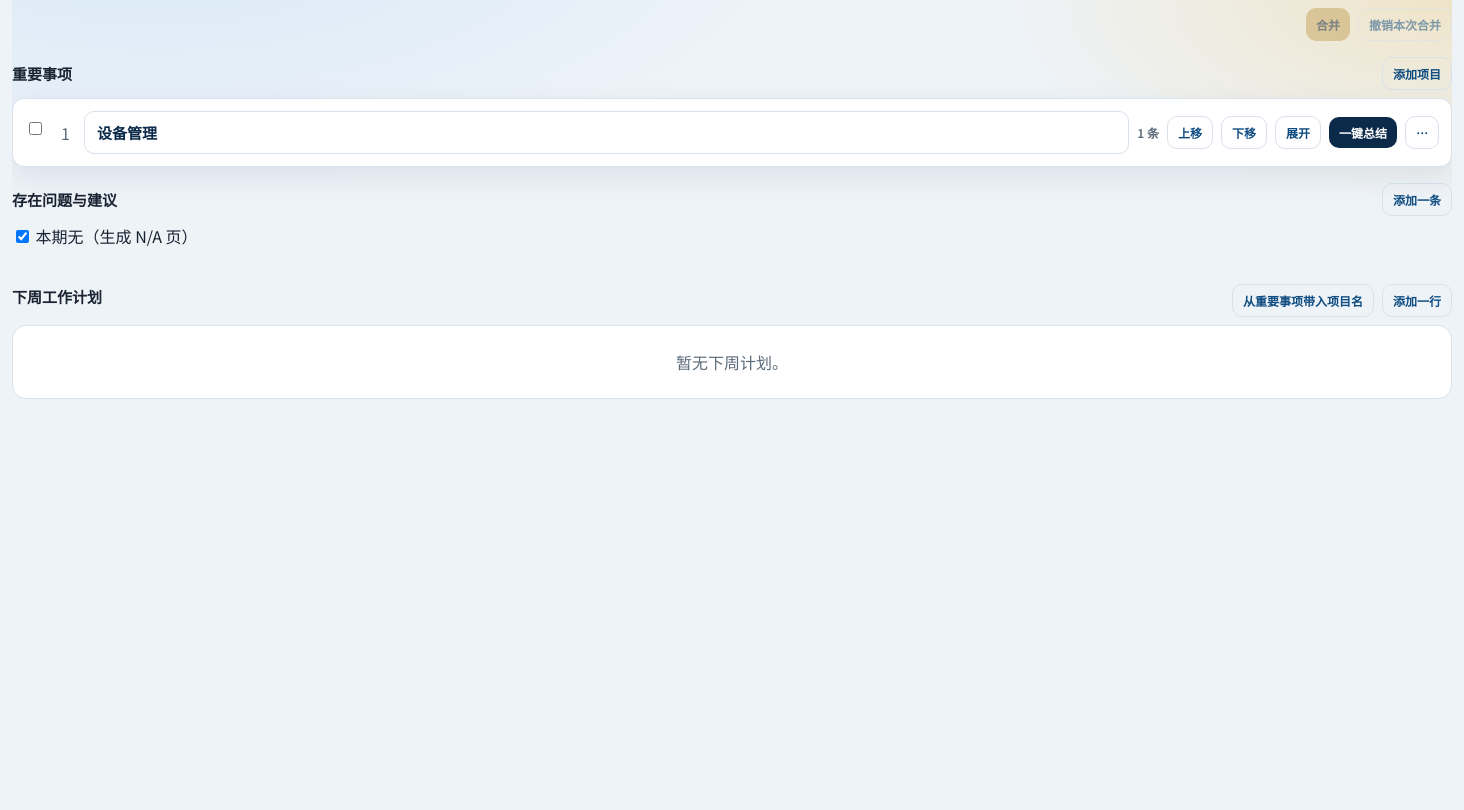
issue and next-week title editors stay gone › N/A issues hide the list and still have no 标题 field
Expected: the element with id "merge-zone-issues" does not show "不会画出来"
Expected: the element with id "merge-zone-nextWeek" shows "暂无下周计划", left=676, top=350, right=788, bottom=374
What coordinates should you click on to do the following:
click the checkbox labelled "本期无（生成 N/A 页）"
I would click on:
 (22, 236)
Its box is left=16, top=230, right=29, bottom=243.
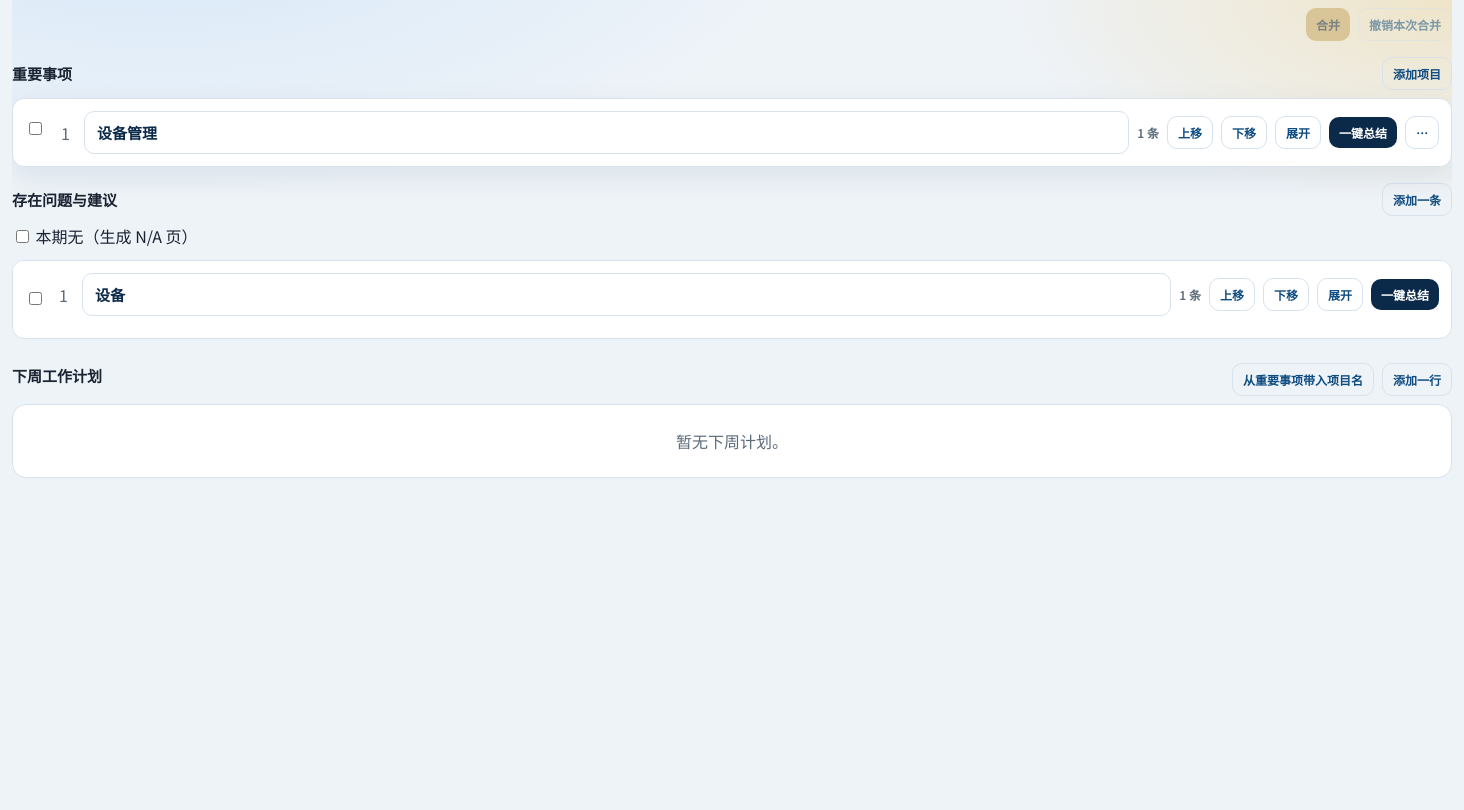
What coordinates should you click on to do the following:
click the 2nd button "展开"
I would click on:
 (1340, 294)
Its box is left=1317, top=278, right=1363, bottom=311.
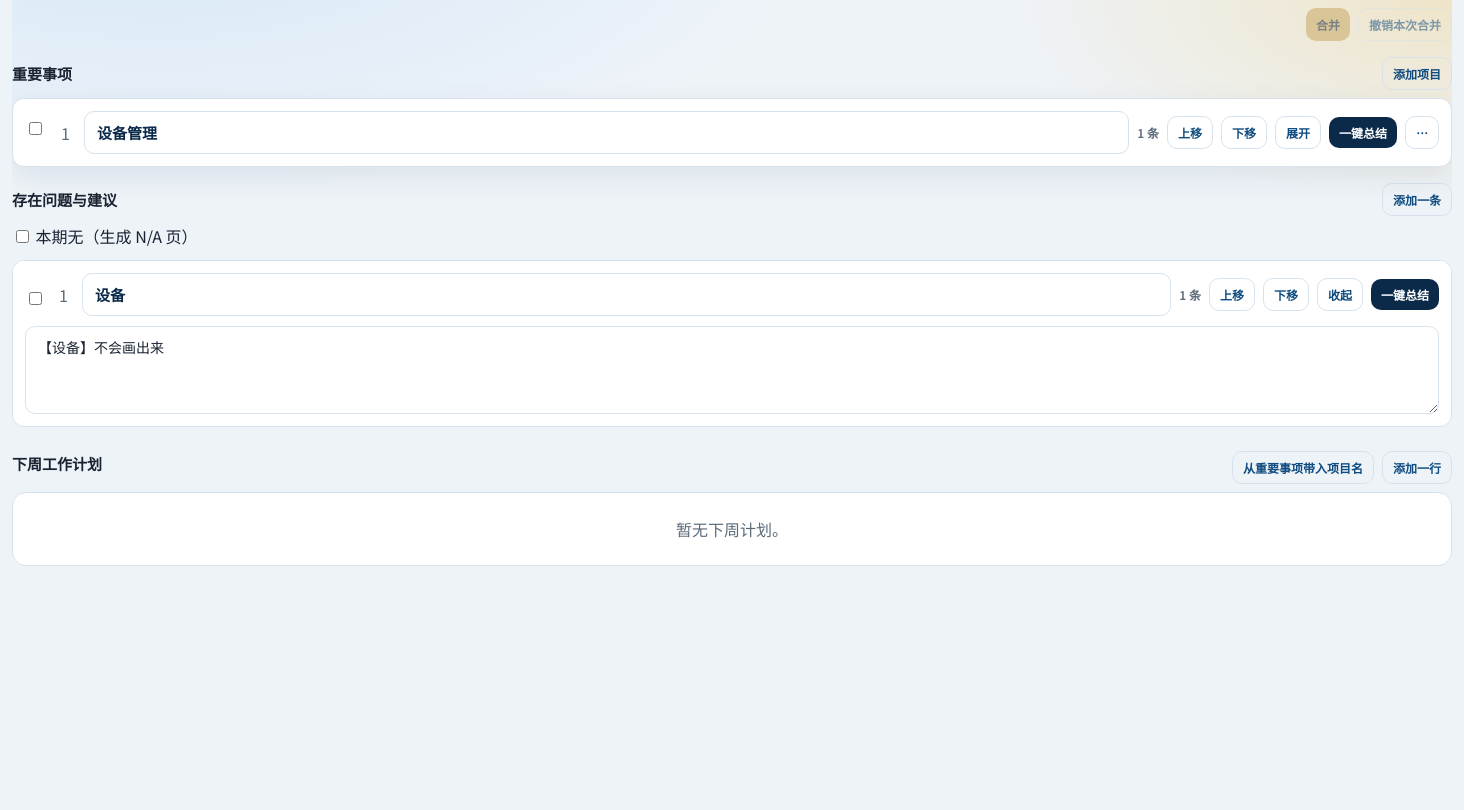
Result: the element named "问题分组 设备" is shown at left=12, top=260, right=1452, bottom=427
Result: the text box named "问题内容 1" holds "【设备】不会画出来" at left=25, top=326, right=1439, bottom=414
